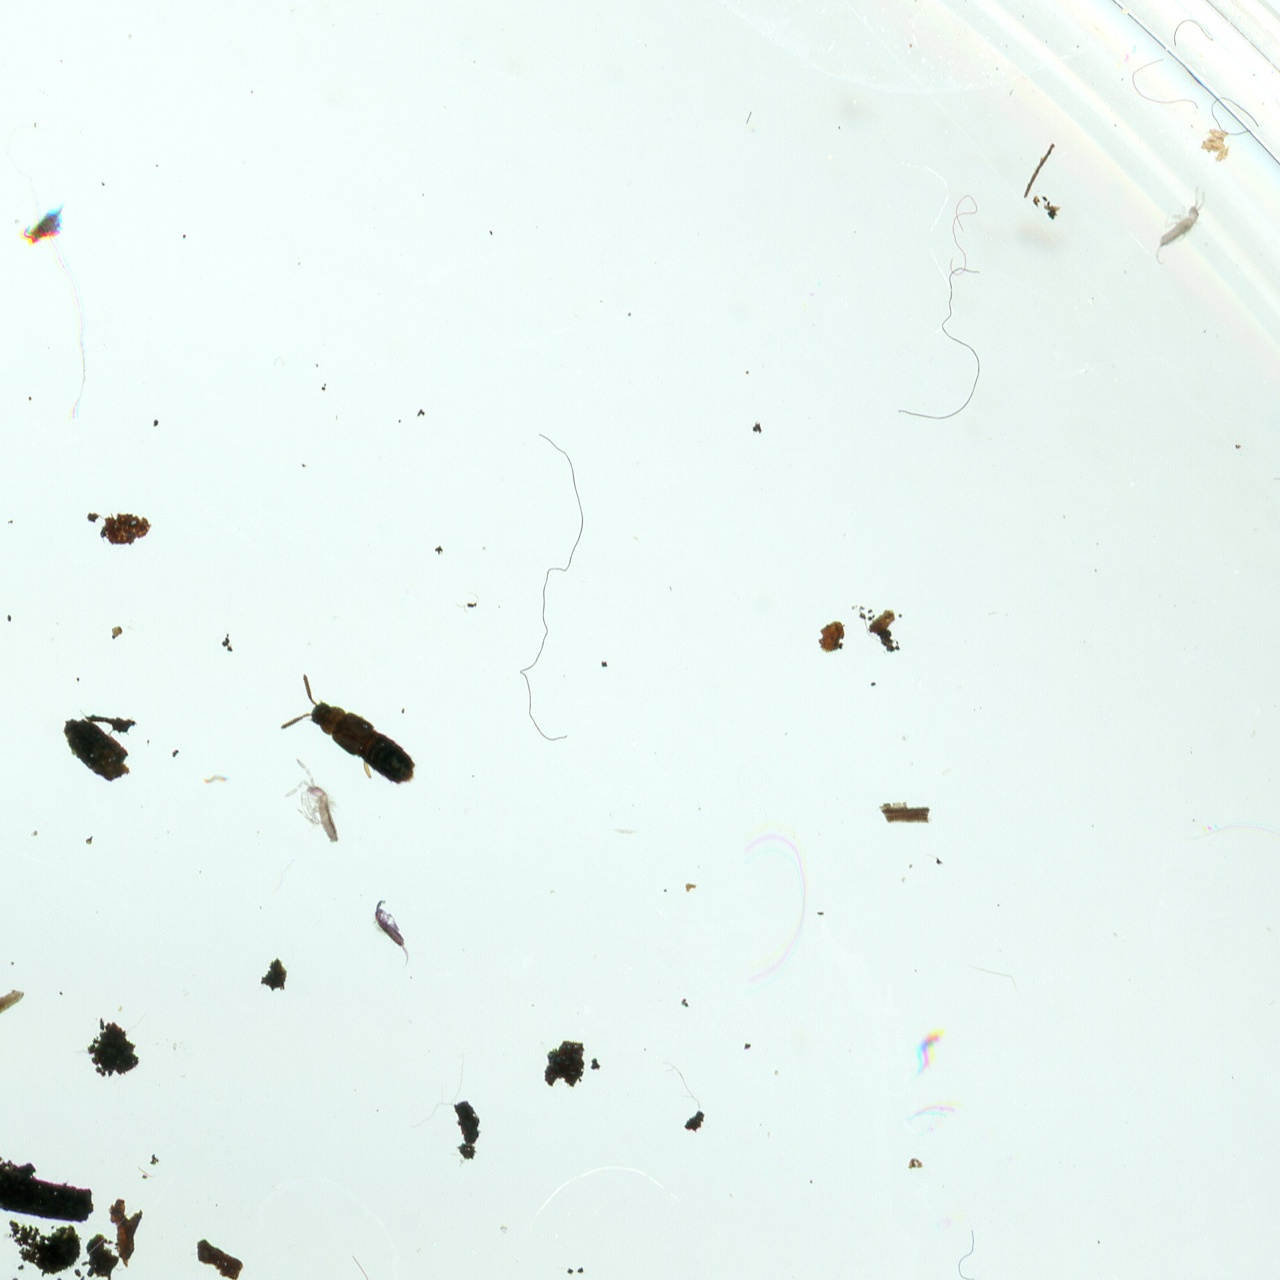arthropod: (278, 665, 415, 787), (277, 754, 338, 845), (1146, 184, 1212, 266), (374, 896, 410, 965), (23, 204, 64, 247)
